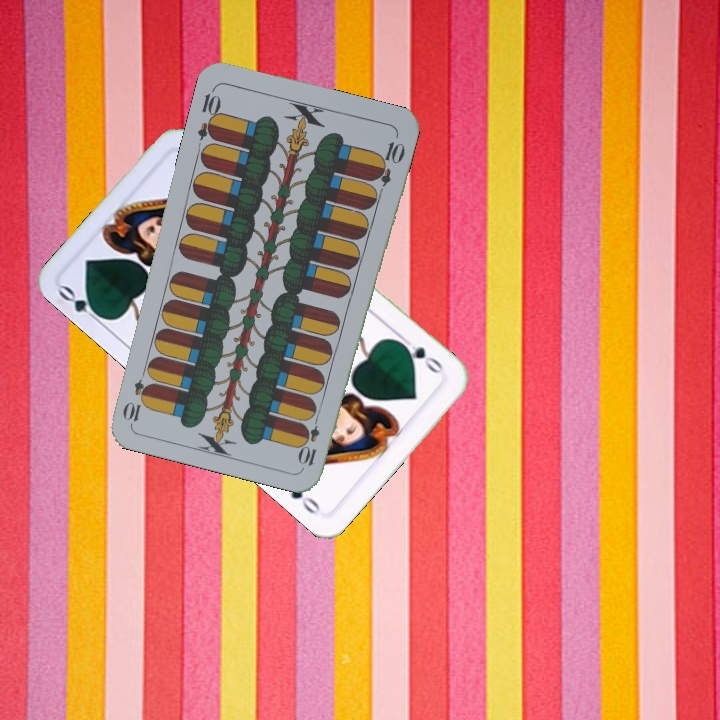E10: (193, 84, 224, 143), (297, 409, 323, 468)
GO: (54, 281, 109, 328), (396, 333, 445, 379)
